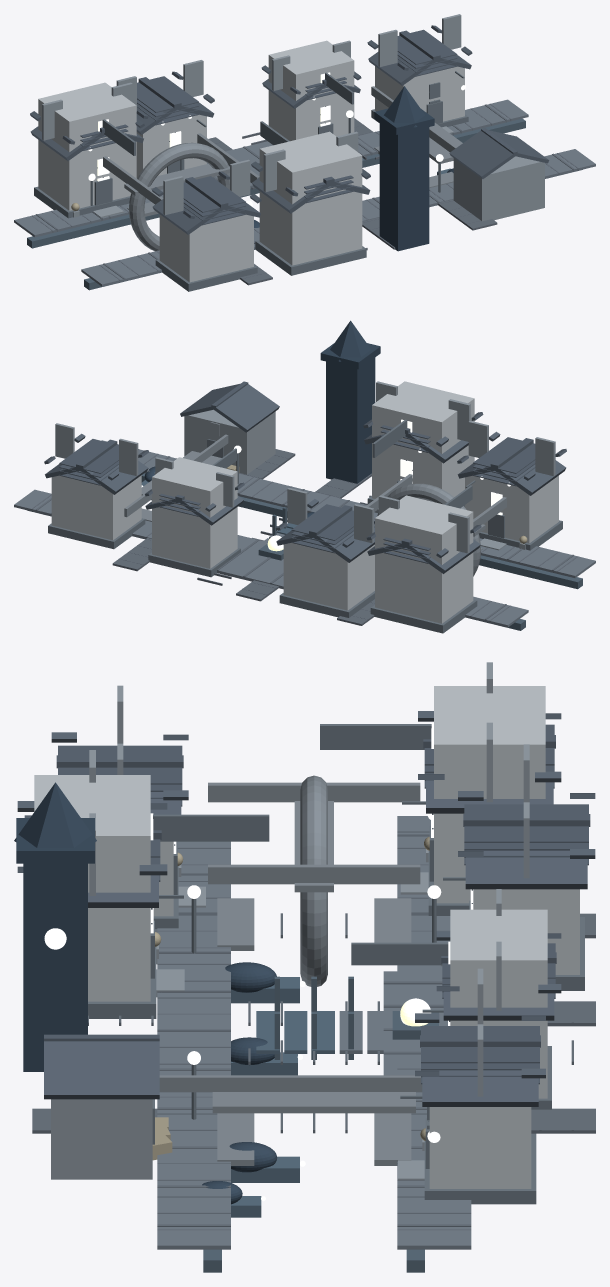
The model's file is dukou.glb.
3 renders of one model, top to bottom at view 1: azimuth 30°, elevation 25°; view 2: azimuth 150°, elevation 25°; view 3: azimuth 270°, elevation 25°, orthographic. The views are drawn at different scales.
Visible parts, largest first — view 1: teahouse_wall, shop_flower_wall, tower_body, shop_paper_wall, shop_clock_wall, warehouse_wall, road_north, road_south, west_arch, hut_fish_wall, shop_noodle_wall, bank_1 (+36 smaller); view 2: shop_flower_wall, teahouse_wall, shop_paper_wall, tower_body, shop_noodle_wall, hut_fish_wall, road_north, shop_clock_wall, warehouse_wall, road_south, plaza, warehouse_roof2 (+33 smaller); view 3: road_north, teahouse_wall, shop_flower_wall, tower_body, shop_paper_wall, hut_fish_wall, warehouse_wall, road_south, warehouse_roof1, west_arch, east_deck, shop_flower_wall2 (+45 smaller).
Boxes of the visible parts, box(x1,y1,x2,y2) form: teahouse_wall: box(259, 131, 362, 265); shop_flower_wall: box(38, 82, 136, 210); tower_body: box(379, 123, 429, 251); shop_paper_wall: box(268, 40, 354, 141); shop_clock_wall: box(159, 214, 253, 282); warehouse_wall: box(453, 156, 544, 221); road_north: box(81, 149, 595, 286); road_south: box(14, 99, 528, 237); west_arch: box(129, 142, 229, 251); hut_fish_wall: box(375, 66, 464, 121); shop_noodle_wall: box(136, 114, 206, 177); bank_1: box(27, 118, 525, 248); shop_flower_wall: box(375, 495, 473, 623); teahouse_wall: box(372, 381, 474, 500); shop_paper_wall: box(152, 457, 237, 568); tower_body: box(326, 357, 375, 483); shop_noodle_wall: box(283, 542, 374, 610); hut_fish_wall: box(51, 475, 141, 540); road_north: box(101, 440, 595, 577); shop_clock_wall: box(465, 475, 558, 543); warehouse_wall: box(184, 409, 275, 474); road_south: box(14, 489, 528, 627); plaza: box(217, 535, 283, 589); warehouse_roof2: box(213, 384, 279, 432); road_north: box(157, 841, 230, 1249); teahouse_wall: box(34, 775, 150, 1001); shop_flower_wall: box(434, 686, 545, 903); tower_body: box(23, 863, 87, 1071); shop_paper_wall: box(450, 909, 547, 1098); hut_fish_wall: box(429, 1107, 531, 1188); warehouse_wall: box(51, 1099, 152, 1179); road_south: box(397, 816, 471, 1249); warehouse_roof1: box(44, 1041, 159, 1099); west_arch: box(300, 775, 327, 986); east_deck: box(212, 1092, 415, 1113); shop_flower_wall2: box(436, 687, 542, 743).
Bounding box in the file's own units: 22 × 7.8 × 12.6.
